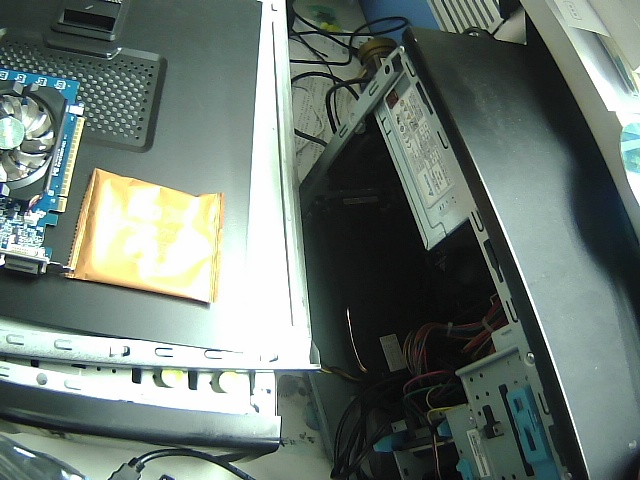frenchcookie: (64, 159, 235, 311)
